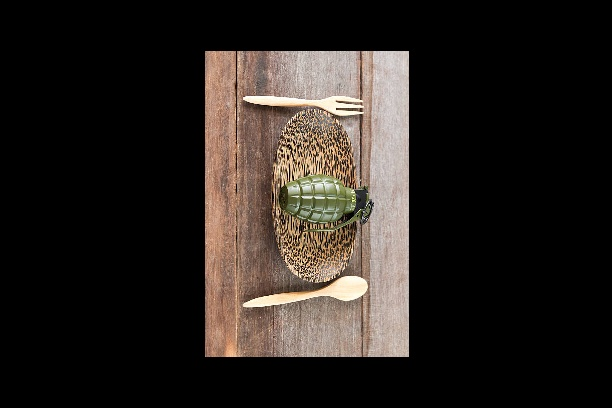e1: (280, 170, 374, 231)
